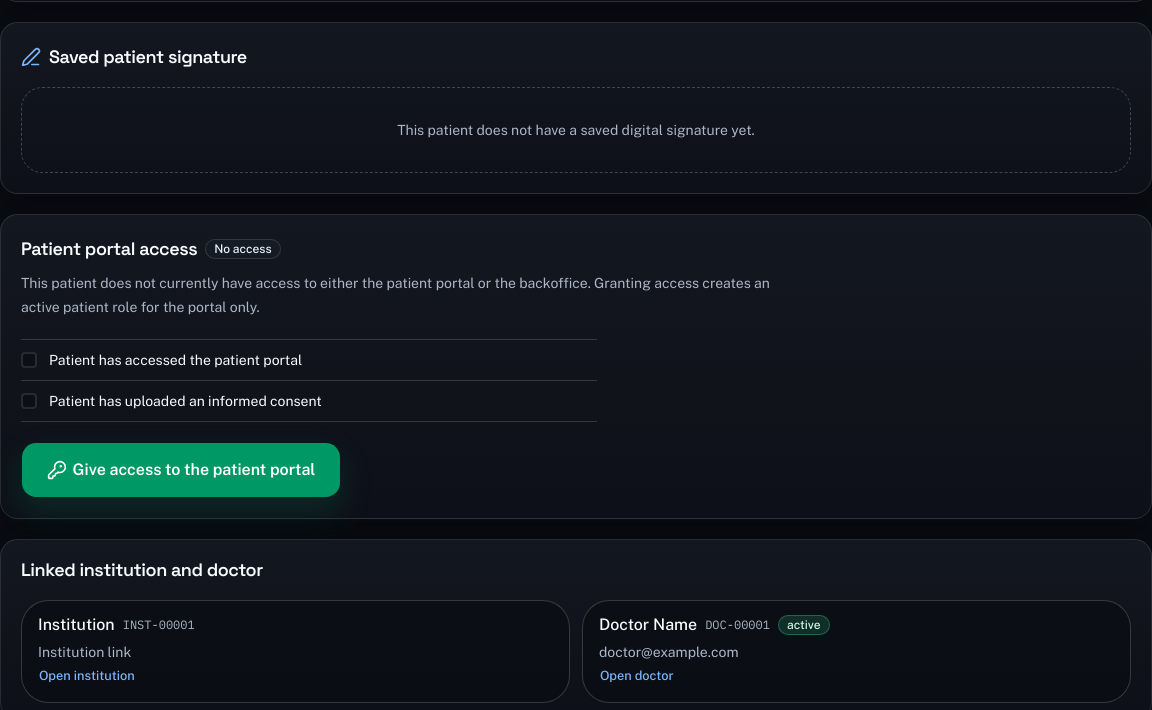
Test case: PatientWorkbench portal credentials › shows the generated password immediately after granting access
The image size is (1152, 710).
(page scrolled)
Click the button "Give access to the patient portal" at (181, 470), box [21,442,341,498]
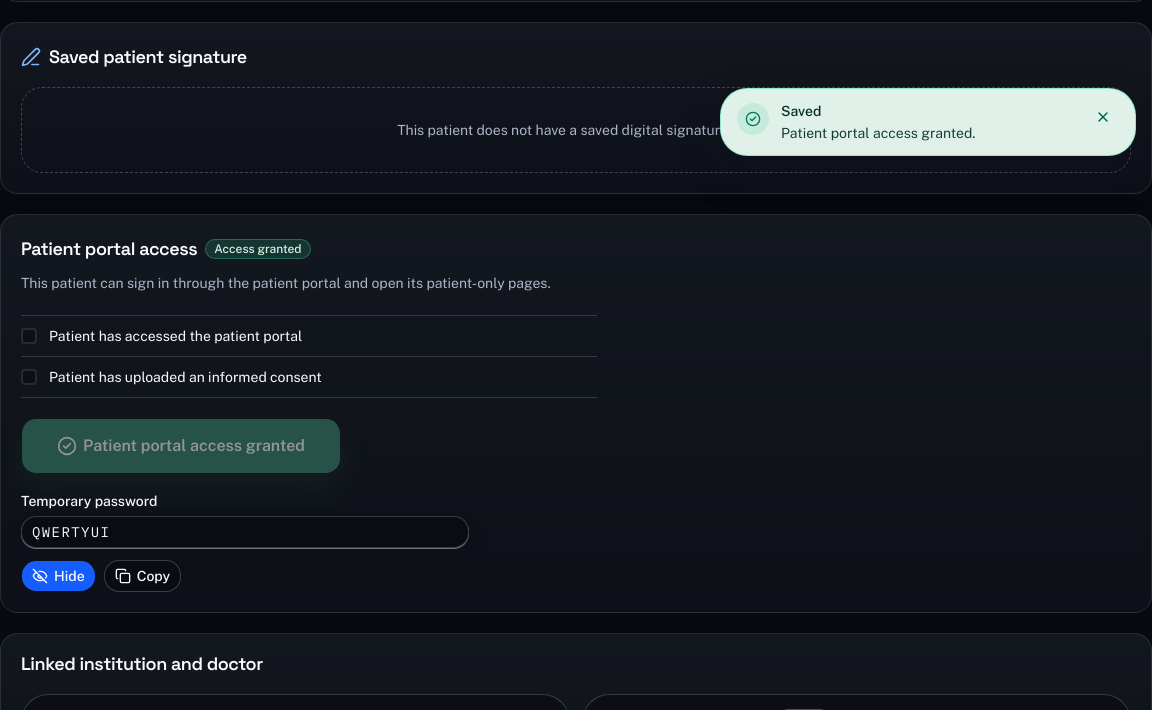
Expected: the field labelled "Temporary password" holds "QWERTYUI", [21,516,469,548]
Expected: the button "Hide" is shown, [21,560,96,592]
